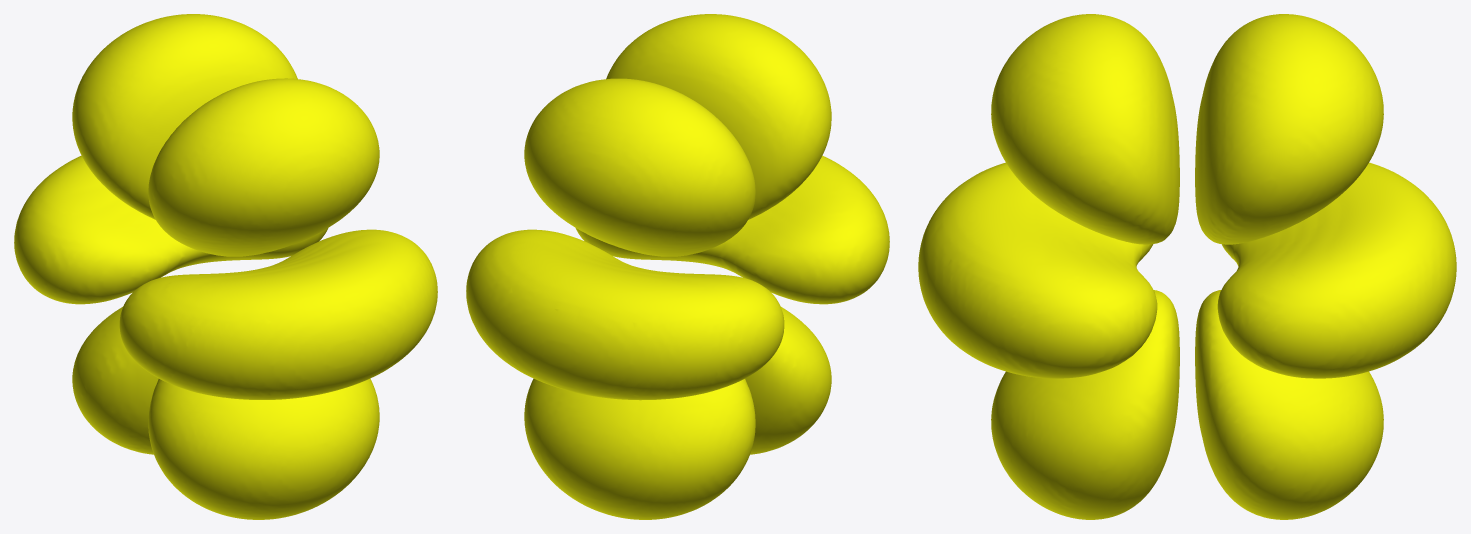
File: fyz2 orbital.dae
3 views of the same model, side by side, from view 1: azimuth 30°, elevation 25°; view 2: azimuth 150°, elevation 25°; view 3: azimuth 270°, elevation 25° (orthographic). The views are drawn at different scales.
Parts seen in each view (by area): view 1: fyz2.001, fyz2; view 2: fyz2, fyz2.001; view 3: fyz2.001, fyz2.
Part boxes in pixels (left/top/right/bottom): fyz2.001: left=14, top=78, right=379, bottom=519; fyz2: left=72, top=14, right=437, bottom=454; fyz2: left=524, top=78, right=889, bottom=519; fyz2.001: left=466, top=14, right=831, bottom=454; fyz2.001: left=991, top=14, right=1456, bottom=519; fyz2: left=918, top=14, right=1383, bottom=519.
Bounding box in the file's own units: 46.55 × 65.77 × 64.06.
